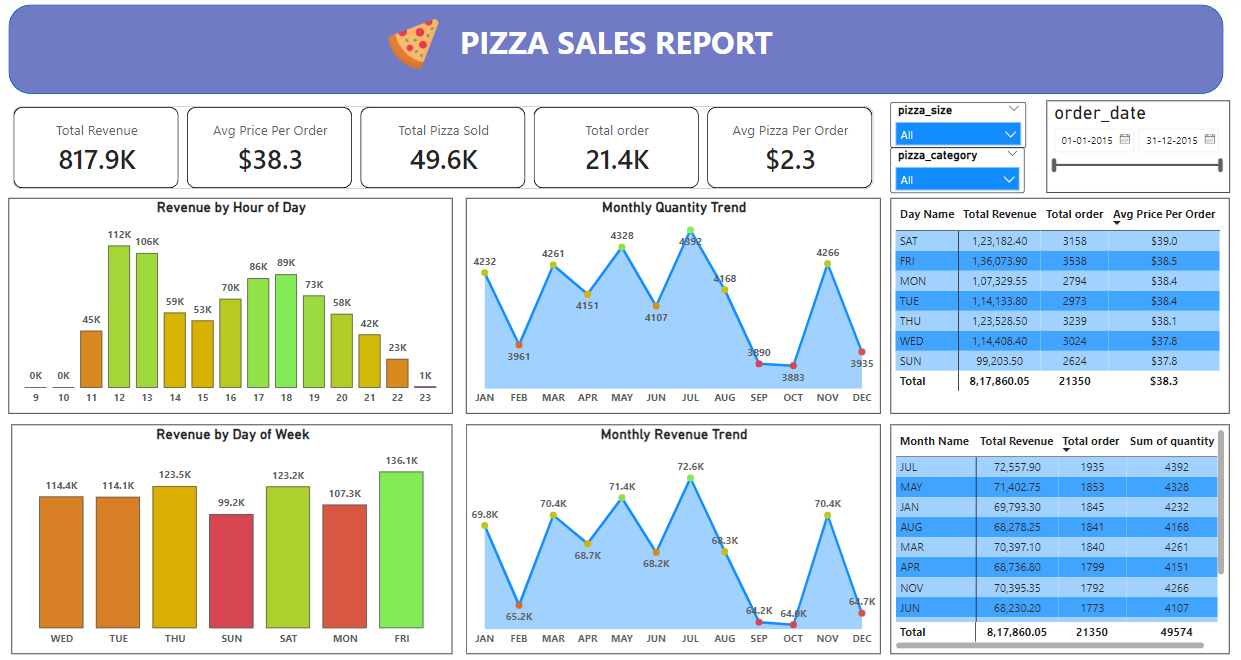

The page's visual inventory and layout, read from the dashboard file:
{"tool":"powerbi","page":{"name":"Overview","canvas":[1500,800],"ordinal":0},"visuals":[{"type":"cardVisual","fields":{"Data":["Measure.Total Revenue","Measure.Avg Price Per Order","Measure.Total Pizza","Measure.Total order","Measure.Avg Pizza Per Order"]},"box":[16.6,129.5,1045,109.1],"z":0},{"type":"columnChart","title":"Revenue by Day of Week","fields":{"Category":["pizza_sales.Day Name"],"Y":["Measure.Total Revenue"]},"box":[20.3,516,529,275.6],"z":1000},{"type":"shape","box":[0,12.6,1473.5,107.9],"z":2000},{"type":"textbox","box":[548.7,27,393,66.6],"z":3000},{"type":"slicer","fields":{"Values":["pizza_sales.pizza_category"]},"box":[1074.6,183.1,160.9,55.5],"z":4000},{"type":"slicer","fields":{"Values":["pizza_sales.pizza_size"]},"box":[1074.6,129.5,162.8,55.5],"z":5000},{"type":"image","box":[455.2,28.8,93.6,63],"z":6000},{"type":"columnChart","title":"Revenue by Hour of Day","fields":{"Category":["pizza_sales.Order Hour"],"Y":["Measure.Total Revenue"]},"box":[16.6,244.1,532.7,258.9],"z":7000},{"type":"pivotTable","title":"Total Revenue by Day","fields":{"Rows":["pizza_sales.Day Name"],"Values":["Measure.Total Revenue","Measure.Total order","Measure.Avg Price Per Order"]},"box":[1074.6,244.1,406.9,258.9],"z":8000},{"type":"pivotTable","title":"Total Revenue by Day","fields":{"Rows":["pizza_sales.Month Name"],"Values":["Measure.Total Revenue","Measure.Total order","Sum(pizza_sales.quantity)"]},"box":[1074.6,516,406.9,275.6],"z":9000},{"type":"areaChart","title":"Monthly Revenue Trend","fields":{"Category":["pizza_sales.Month Name"],"Y":["Measure.Total Revenue"]},"box":[564.1,516,497.5,275.6],"z":10000},{"type":"areaChart","title":"Monthly Quantity Trend","fields":{"Category":["pizza_sales.Month Name"],"Y":["Sum(pizza_sales.quantity)"]},"box":[564.1,244.1,497.5,258.9],"z":11000},{"type":"slicer","fields":{"Values":["pizza_sales.order_date"]},"box":[1261.4,127.6,220.1,111],"z":12000}]}

Visuals, with their boxes in screenshot pixels (x1, y1, x2, y2), scaled from the page's 1500x800 canvas onto the 1241x660 screenshot:
cardVisual - Measure.Total Revenue x Measure.Avg Price Per Order: crop(14, 107, 878, 197)
"Revenue by Day of Week" columnChart: crop(17, 426, 454, 653)
shape: crop(0, 10, 1219, 99)
textbox: crop(454, 22, 779, 77)
slicer - pizza_sales.pizza_category: crop(889, 151, 1022, 197)
slicer - pizza_sales.pizza_size: crop(889, 107, 1024, 153)
image: crop(377, 24, 454, 76)
"Revenue by Hour of Day" columnChart: crop(14, 201, 454, 415)
"Total Revenue by Day" pivotTable: crop(889, 201, 1226, 415)
"Total Revenue by Day" pivotTable: crop(889, 426, 1226, 653)
"Monthly Revenue Trend" areaChart: crop(467, 426, 878, 653)
"Monthly Quantity Trend" areaChart: crop(467, 201, 878, 415)
slicer - pizza_sales.order_date: crop(1044, 105, 1226, 197)
